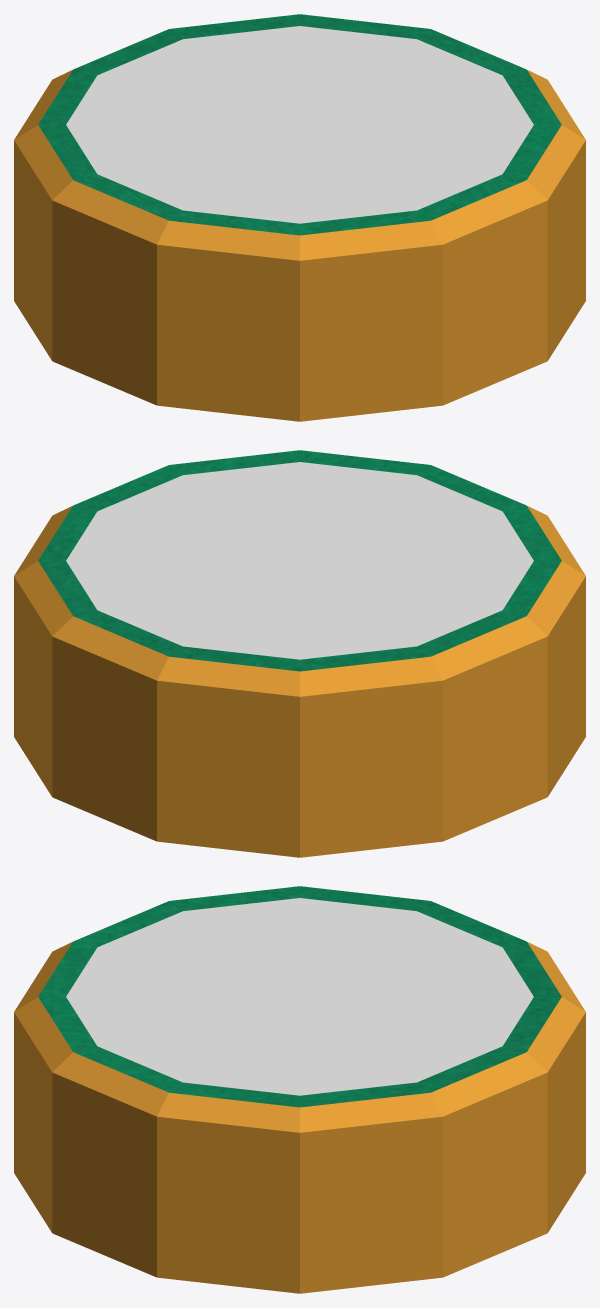
The model's file is player frame.fbx.
3 renders of one model, top to bottom at view 1: azimuth 30°, elevation 25°; view 2: azimuth 150°, elevation 25°; view 3: azimuth 270°, elevation 25°, orthographic.
Parts seen in each view (by area): view 1: Cylinder.002; view 2: Cylinder.002; view 3: Cylinder.002.
Part boxes in pixels (bbox=[...]): Cylinder.002: bbox=[14, 14, 585, 421]; Cylinder.002: bbox=[14, 450, 585, 857]; Cylinder.002: bbox=[14, 886, 585, 1293].
Bounding box in the file's own units: 462 × 157 × 462.
3 materials, 1 textured.
